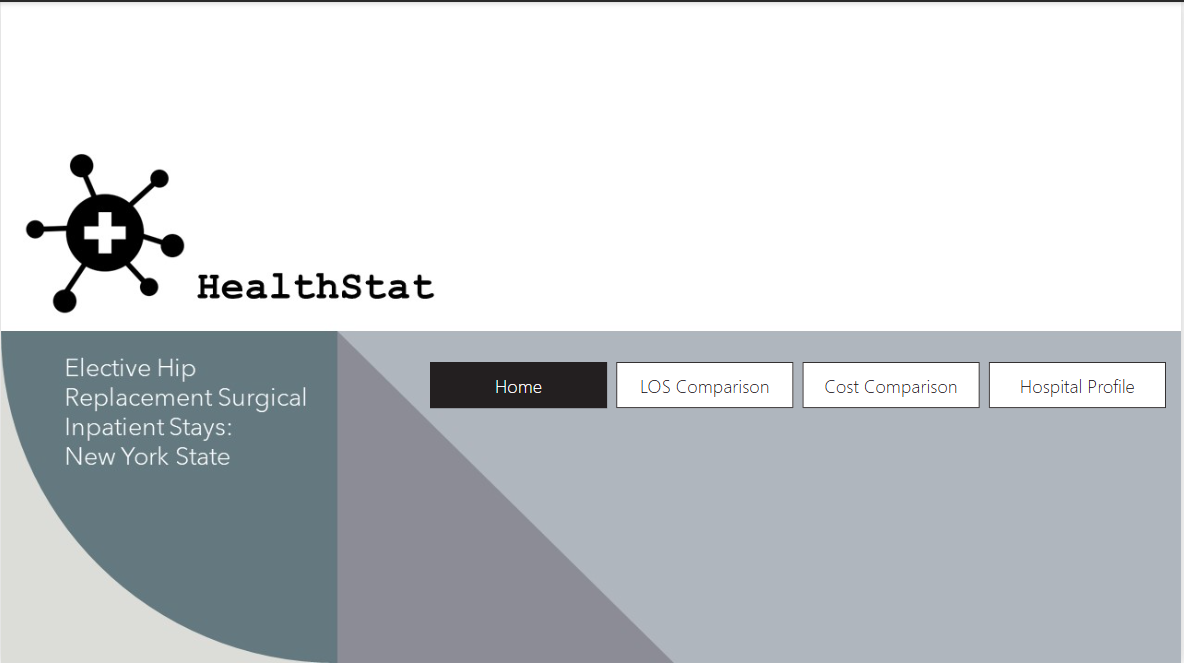

This screenshot's page, from the dashboard's own definition file:
{"tool":"powerbi","page":{"name":"Home","canvas":[1280,720],"ordinal":0},"visuals":[{"type":"pageNavigator","box":[466,390,800,50],"z":0}]}

Visuals, with their boxes in screenshot pixels (x1, y1, x2, y2), scaled from the page's 1280x720 canvas onto the 1184x663 screenshot:
pageNavigator: bbox=(431, 359, 1171, 405)
